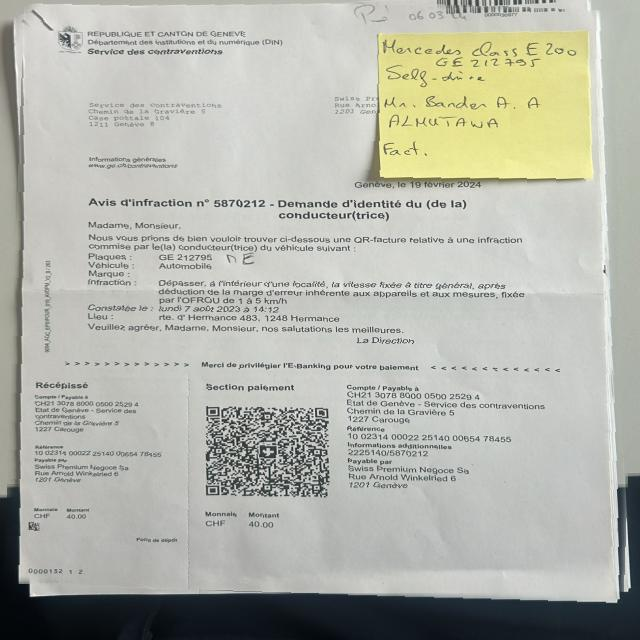paper-document-: (19, 5, 624, 602)
